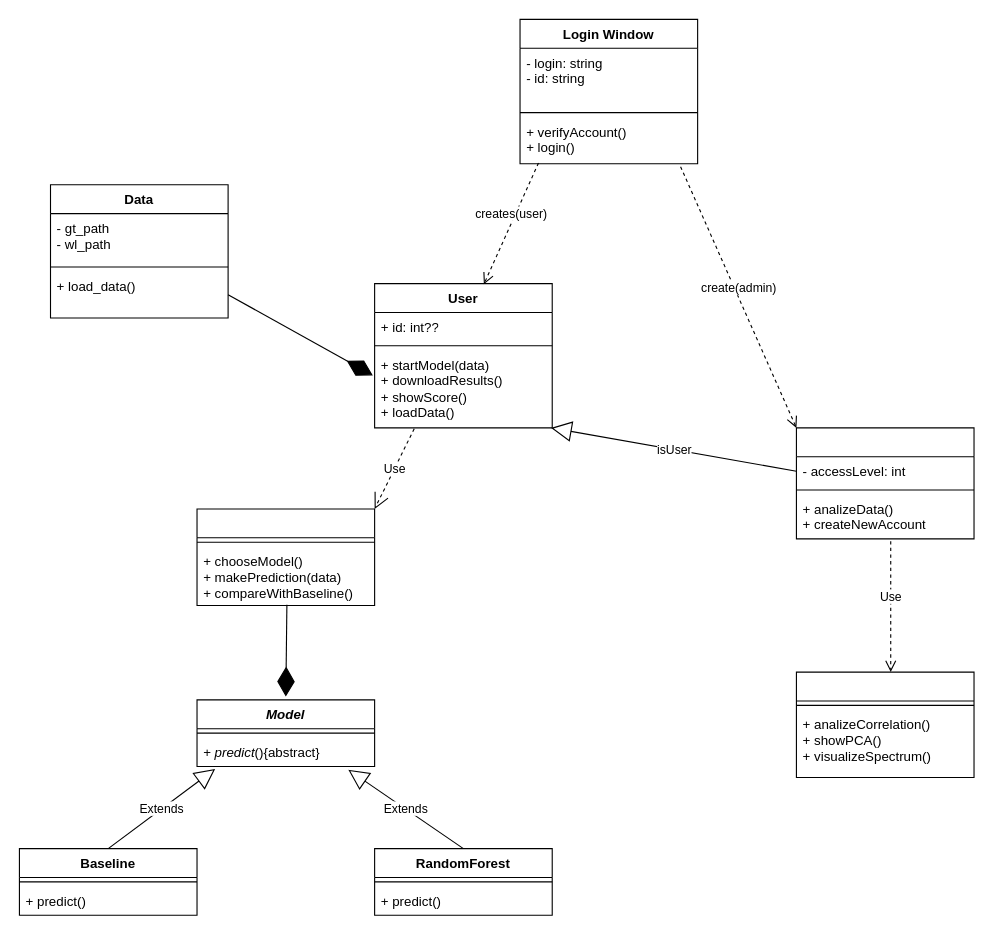
Some shapes in this 993 by 938 pixel diagram are drawn without their labels. Here are the shapes that lost their labels. From the top down, the box of each, then its label:
(795, 427, 974, 539): Admin
(196, 508, 375, 606): ModelManager
(795, 671, 974, 778): DataExplorer
